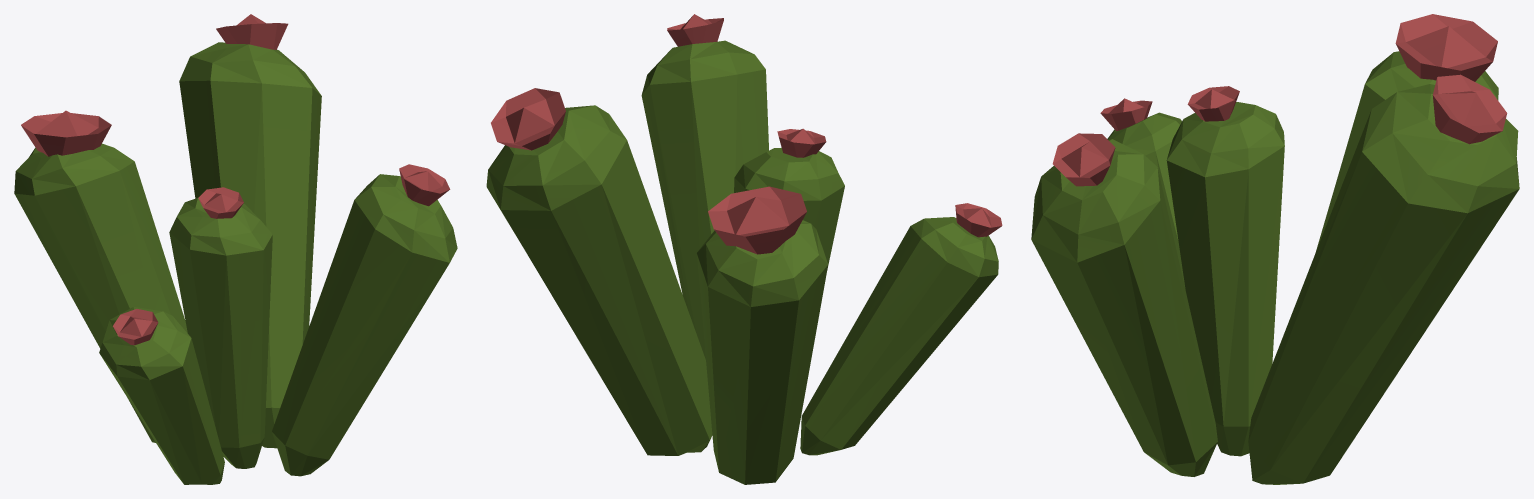
Rendered from Desert_plant_020.glb.
3 views of the same model, side by side, from view 1: azimuth 30°, elevation 25°; view 2: azimuth 150°, elevation 25°; view 3: azimuth 270°, elevation 25° (orthographic). The views are drawn at different scales.
Parts seen in each view (by area): view 1: Desert_plant_020; view 2: Desert_plant_020; view 3: Desert_plant_020.
Boxes of the visible parts, left/top/right/bottom form: Desert_plant_020: left=14, top=14, right=457, bottom=484; Desert_plant_020: left=486, top=14, right=1002, bottom=484; Desert_plant_020: left=1031, top=14, right=1519, bottom=484.
Size of the model in its own units: 0.3792 by 0.3993 by 0.4147.
1 material, 1 textured.
